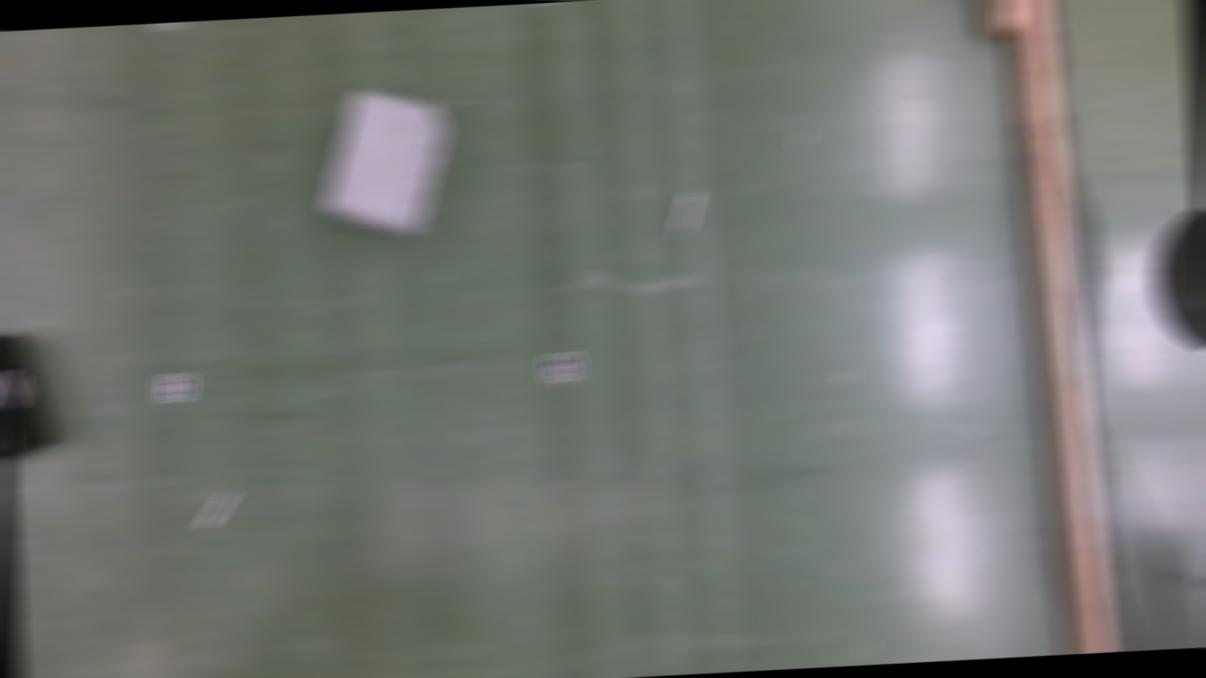probes: (197, 489, 237, 530), (671, 191, 700, 235)
rako: (312, 82, 453, 241), (0, 327, 58, 467)
